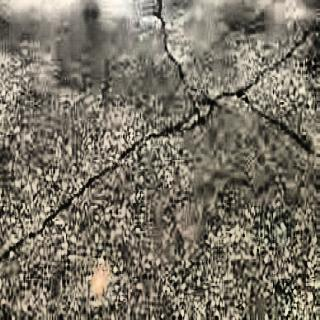crack: (0, 110, 199, 270), (148, 0, 214, 119), (216, 80, 320, 155), (236, 19, 320, 98)
